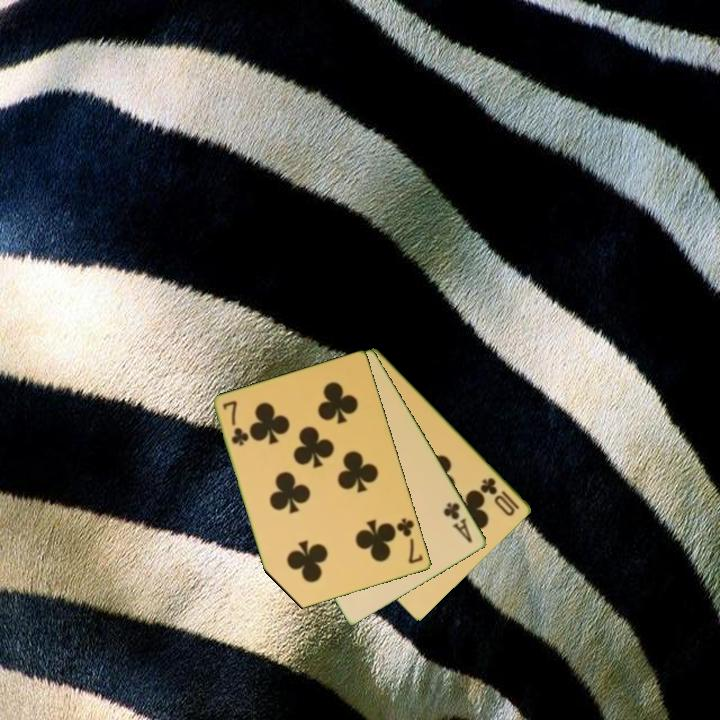10c: (477, 474, 523, 519)
7c: (393, 515, 426, 567), (220, 397, 251, 449)
Ac: (440, 499, 476, 546)
